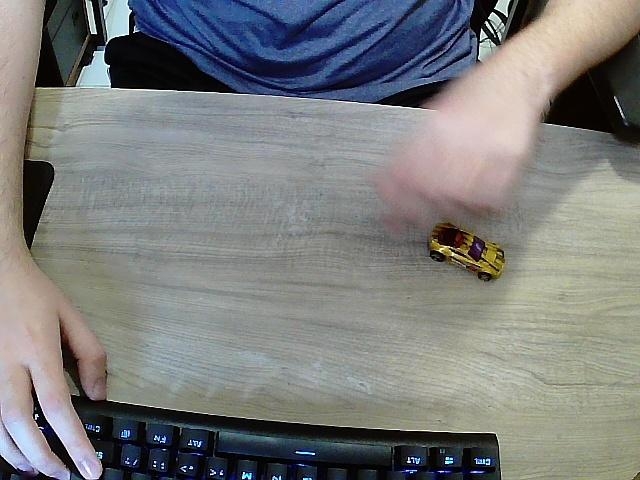Carro: (428, 223, 506, 282)
